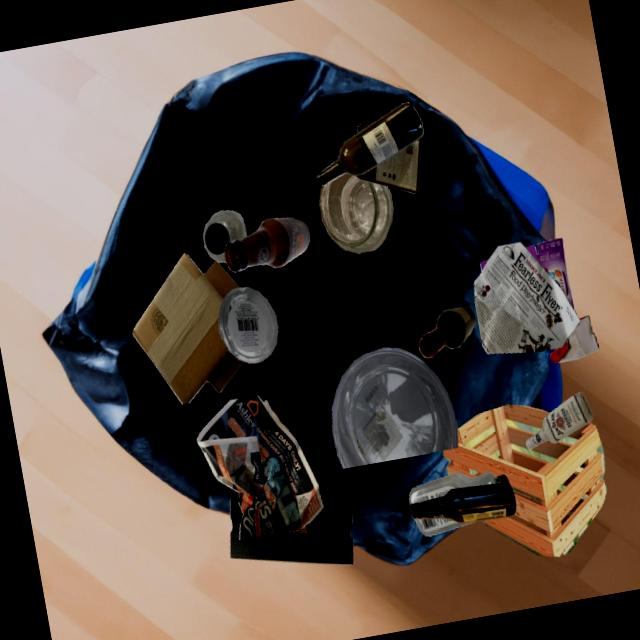cardboard: (132, 252, 244, 404), (230, 495, 353, 565), (355, 138, 421, 193), (525, 238, 574, 309)
combustible waste: (443, 404, 606, 556)
glass: (316, 102, 424, 185), (319, 172, 393, 253), (224, 217, 310, 272), (409, 482, 516, 523), (526, 391, 593, 449), (418, 307, 475, 358)
paper: (197, 395, 323, 539), (473, 242, 580, 354), (549, 315, 599, 363)
plastic: (332, 347, 457, 469), (218, 286, 278, 363), (409, 471, 510, 505), (203, 210, 246, 262), (414, 517, 475, 536)
